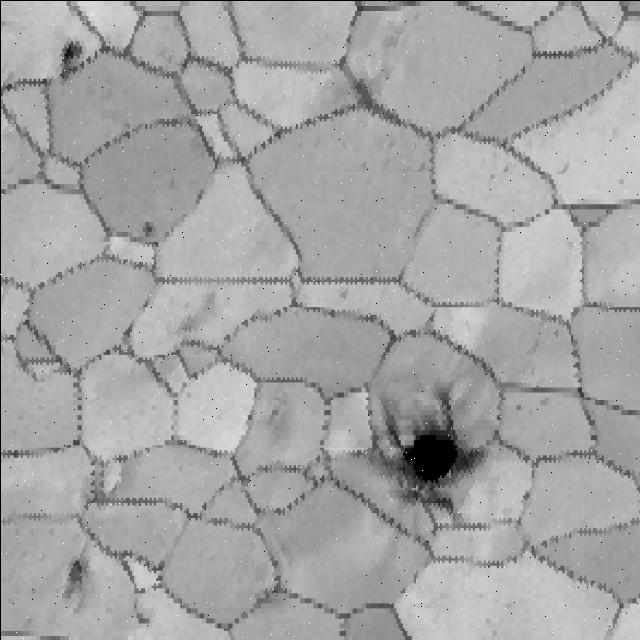good_void: (365, 379, 489, 510), (263, 395, 296, 457), (63, 545, 90, 608), (56, 37, 82, 71), (139, 217, 158, 238), (336, 287, 347, 299), (514, 400, 523, 414)
